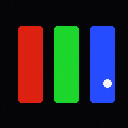0 point: (103, 79, 111, 87)
